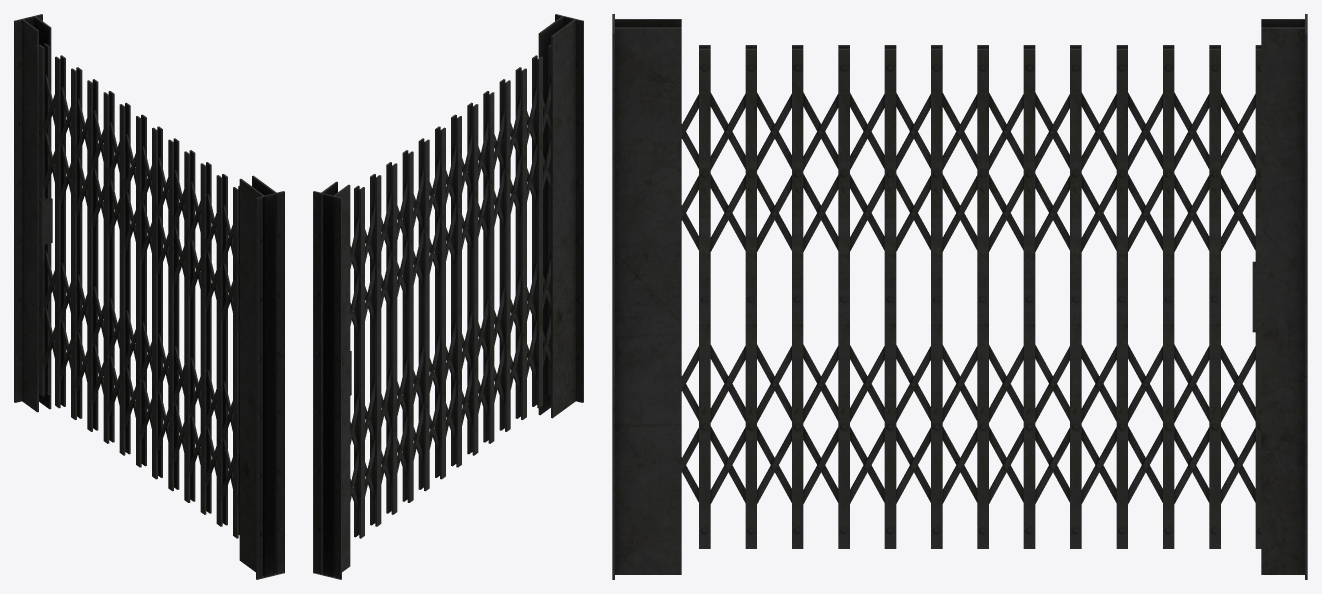
File: accordiongate.obj
The picture shows the model from 3 angles, left to right: view 1: azimuth 30°, elevation 25°; view 2: azimuth 150°, elevation 25°; view 3: azimuth 270°, elevation 25°; orthographic projection. The views are drawn at different scales.
Parts seen in each view (by area): view 1: accordiongate; view 2: accordiongate; view 3: accordiongate.
Part boxes in pixels (box(x1,y1,x2,y2)): accordiongate: box(14, 14, 284, 579); accordiongate: box(313, 14, 583, 579); accordiongate: box(612, 14, 1307, 579).
Size of the model in its own units: 16 by 208 by 240.
Materials: 1 (1 with a texture image).
